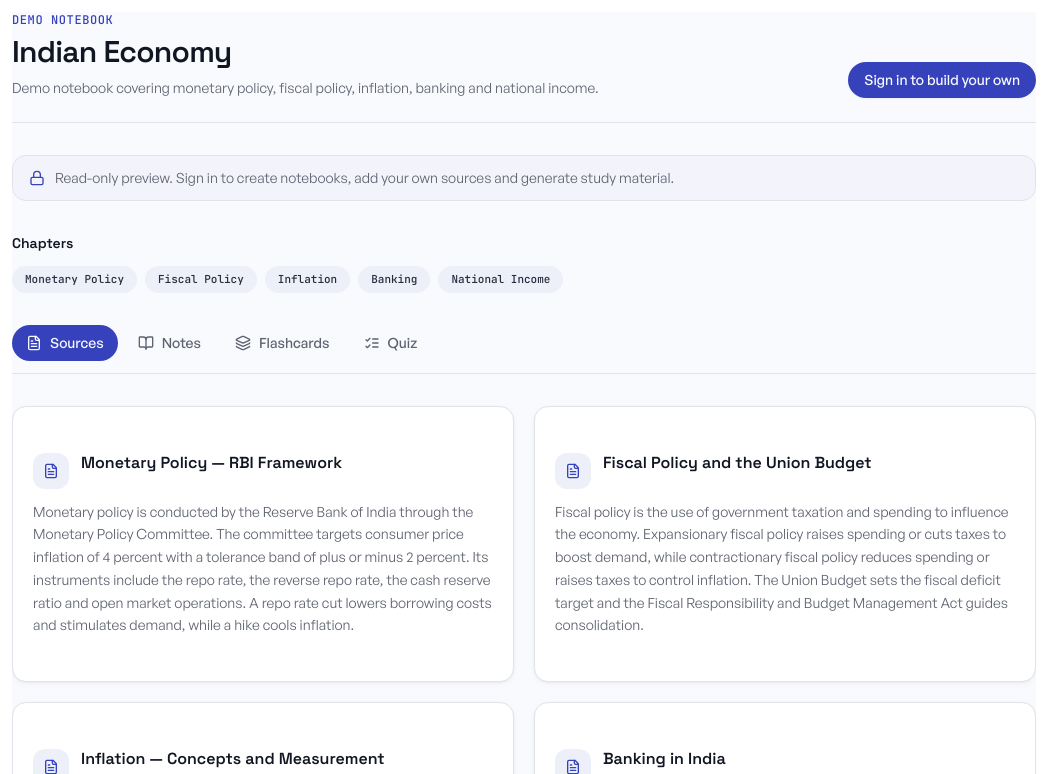
Test: demo notebook › shows sources, notes, flashcards and quiz content across tabs
Expected: the text "Monetary Policy — RBI Framework" is shown, x1=81 y1=450 x2=342 y2=474
What coordinates should you click on to do the following:
click the tab "Notes"
I would click on:
 (169, 342)
Its box is x1=124 y1=324 x2=215 y2=360.
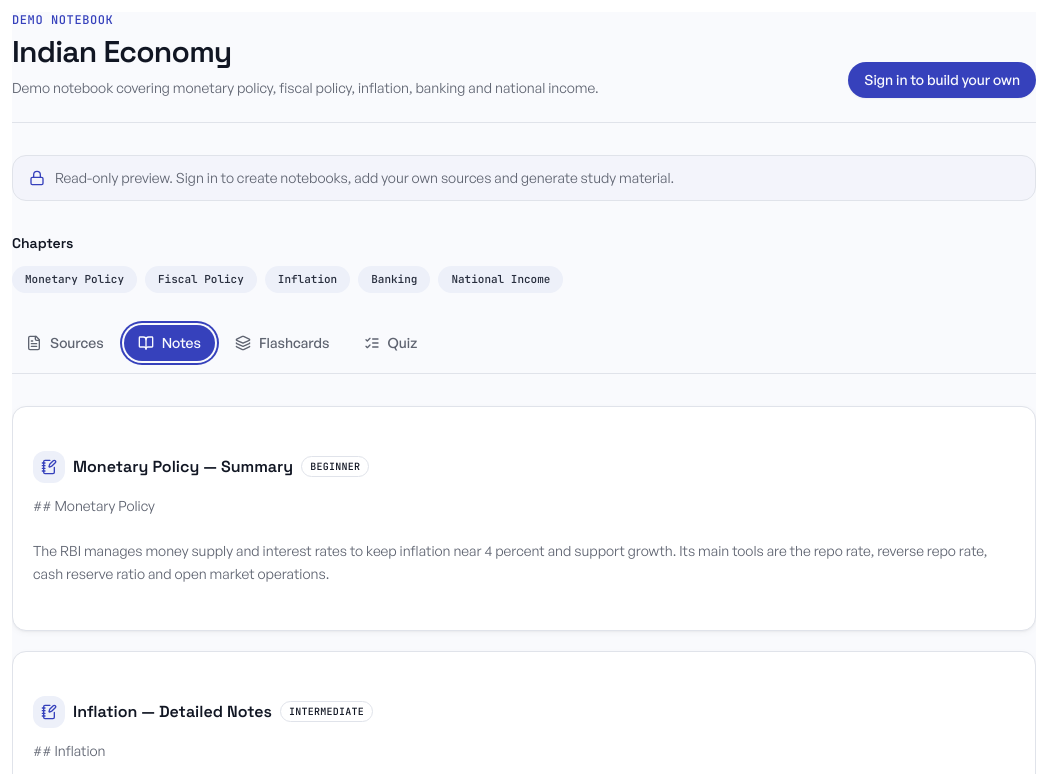
Expected: the text "Monetary Policy — Summary" is shown, x1=73 y1=454 x2=293 y2=478
What coordinates should you click on to do the following:
click the tab "Flashcards"
I would click on:
 (282, 342)
Its box is x1=221 y1=324 x2=344 y2=360.
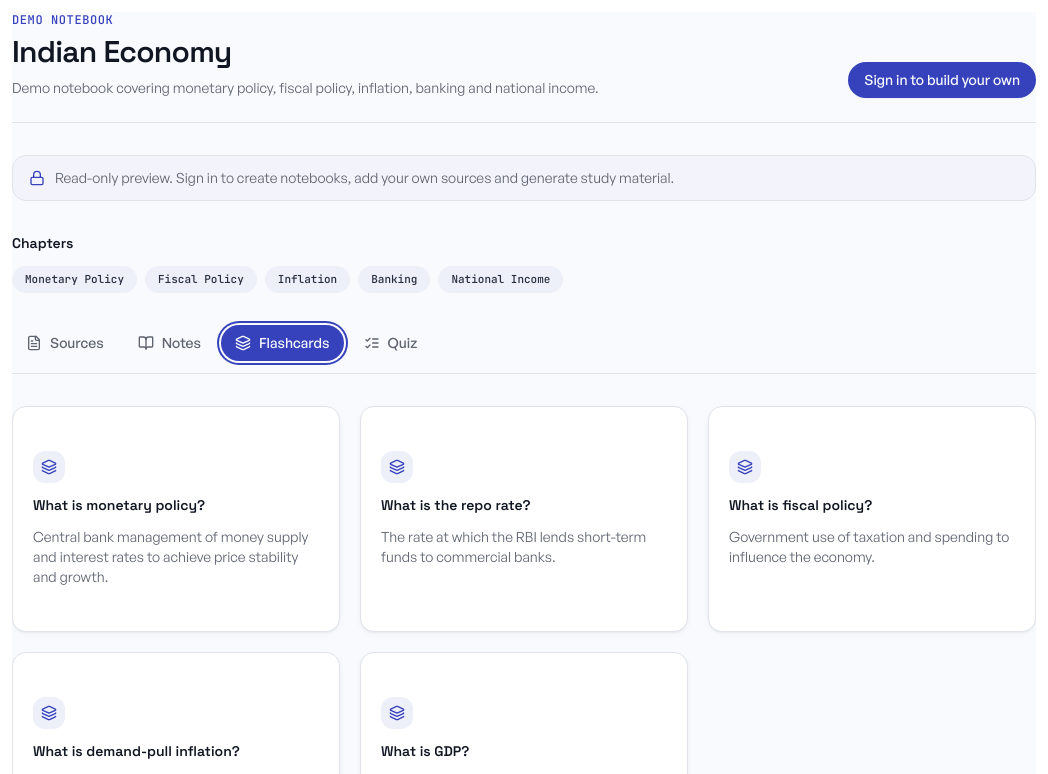
Expected: the text "What is monetary policy?" is shown, x1=33 y1=496 x2=205 y2=514
What coordinates should you click on to do the following:
click the tab "Quiz"
I would click on:
 (390, 342)
Its box is x1=350 y1=324 x2=431 y2=360.
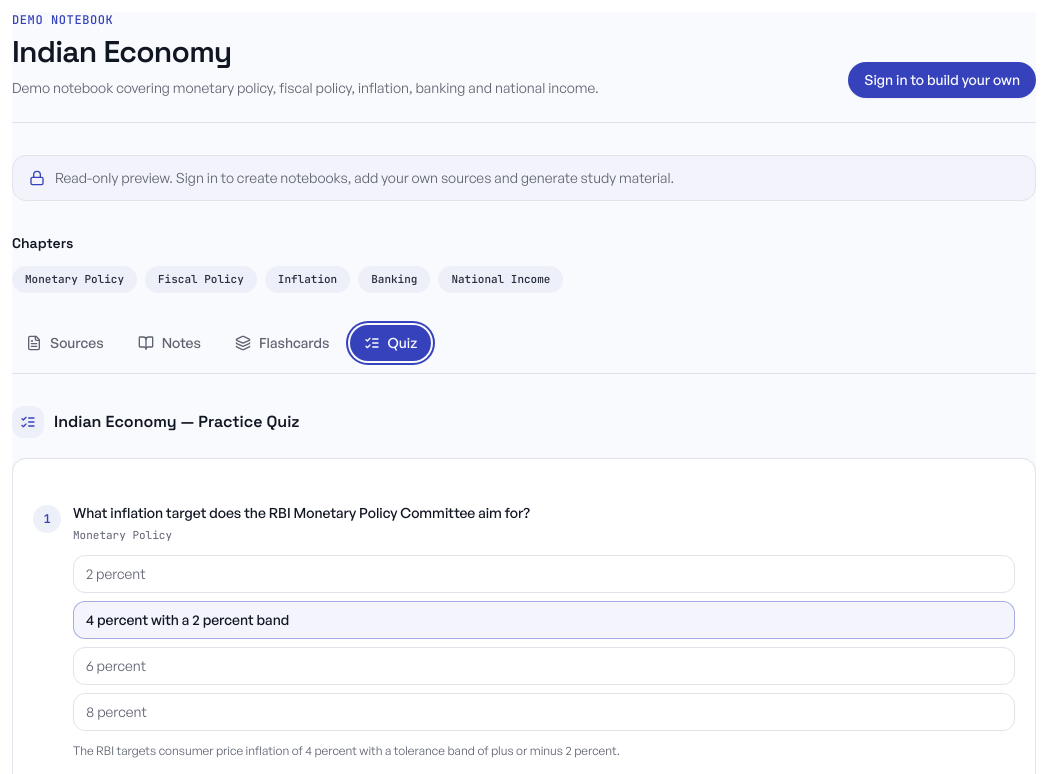
Expected: the heading "Indian Economy — Practice Quiz" is shown, x1=54 y1=410 x2=300 y2=434
Expected: the text "What inflation target does the RBI Monetary Policy Committee aim for?" is shown, x1=73 y1=502 x2=530 y2=522
